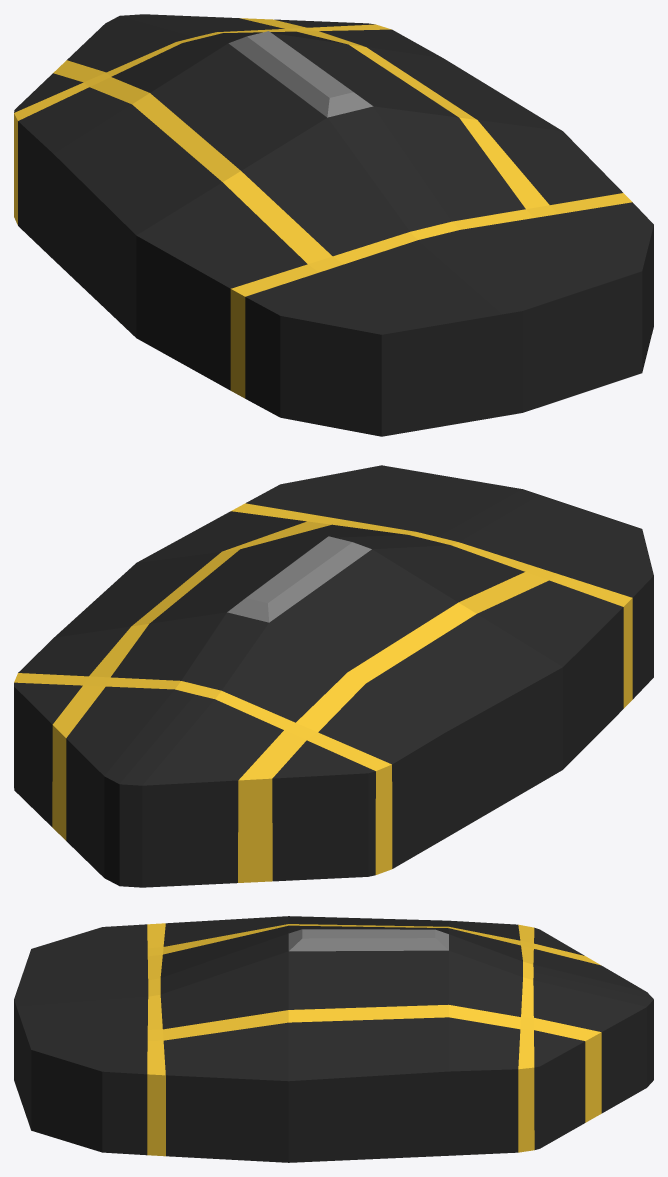
The model's file is Mouse_3.fbx.
3 views of the same model, one above another, from view 1: azimuth 30°, elevation 25°; view 2: azimuth 150°, elevation 25°; view 3: azimuth 270°, elevation 25° (orthographic). The views are drawn at different scales.
Visible parts, largest first — view 1: Mouse_3; view 2: Mouse_3; view 3: Mouse_3.
Boxes of the visible parts, x1=… form: Mouse_3: x1=14, y1=14, x2=653, y2=436; Mouse_3: x1=14, y1=465, x2=653, y2=887; Mouse_3: x1=14, y1=916, x2=653, y2=1162.
Bounding box in the file's own units: 0.0385 × 0.0159 × 0.063.
